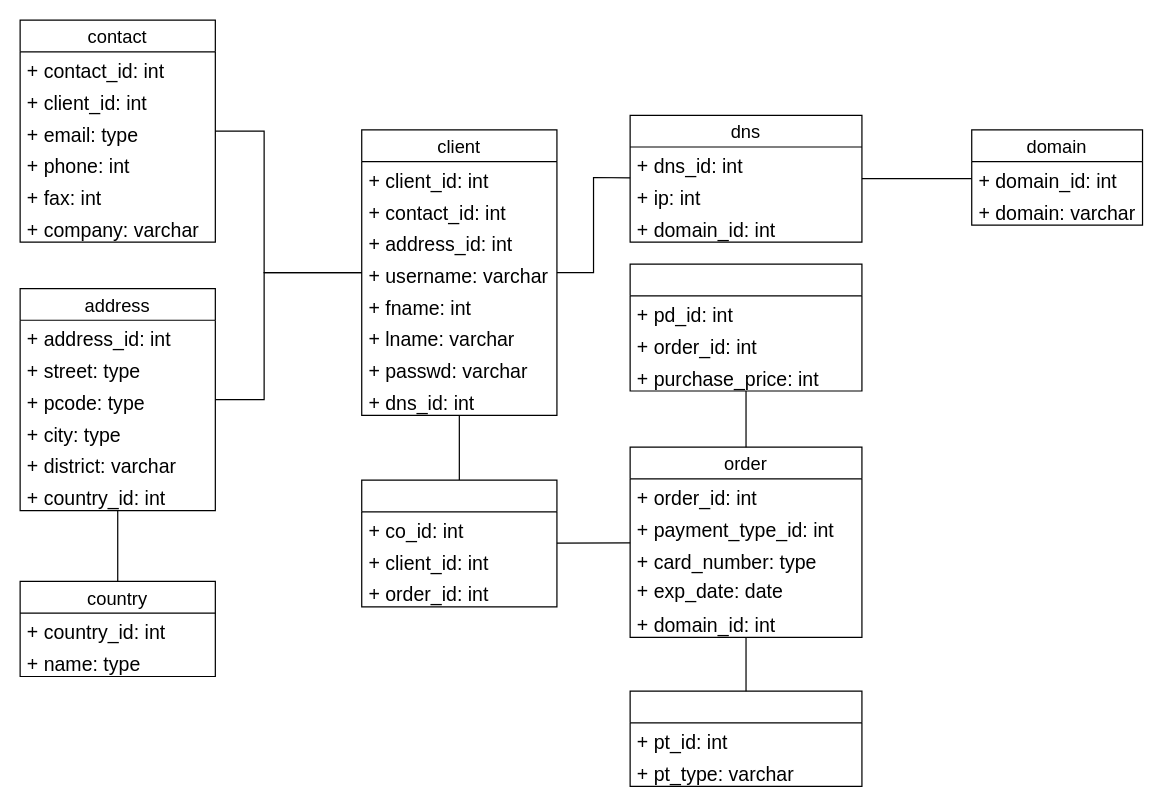
This 1163x806 diagram has some shape labels left out. Here are the shapes that lost their labels. From the top down, the box of each, then its label:
(629, 263, 862, 391): purchased_dns
(361, 479, 557, 607): client_order
(629, 690, 862, 786): payment_types
